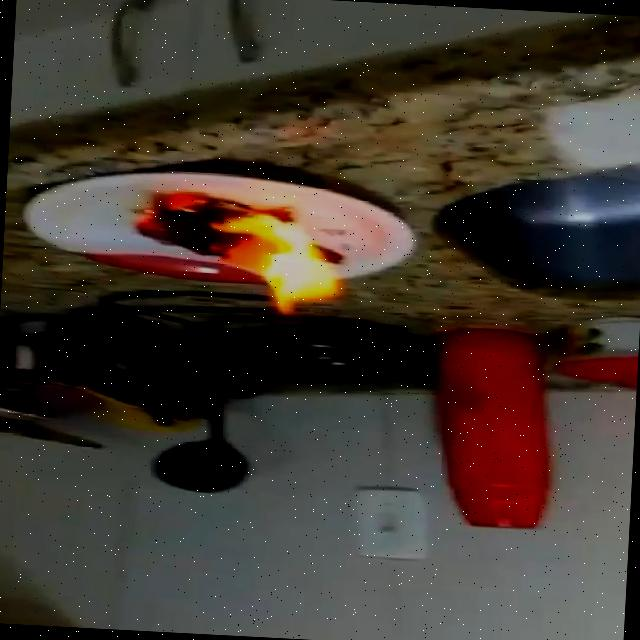fire: (132, 191, 348, 321)
